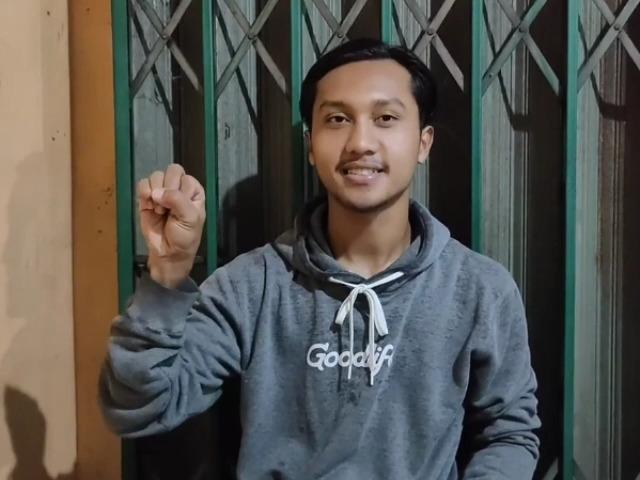S: (132, 160, 210, 258)
